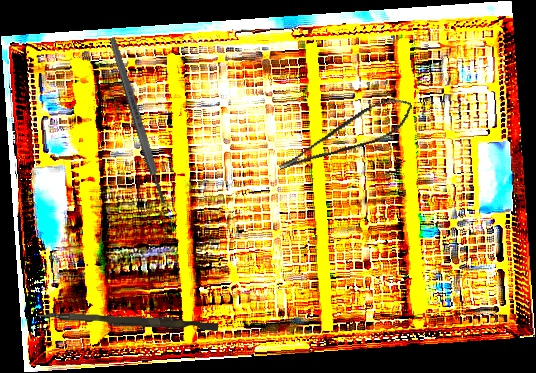Micro Scissor: (269, 91, 420, 176)
Pusher: (37, 311, 219, 332)
Scalpel Handle: (107, 36, 169, 205)
